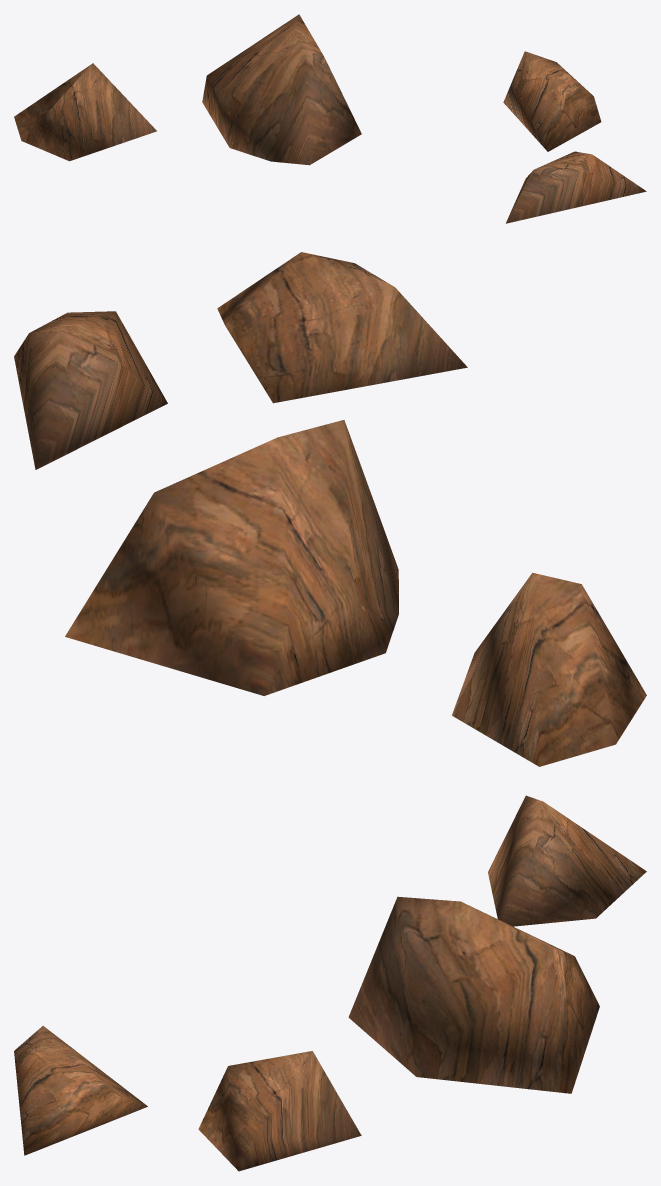
Rendered from rock_tatt_jundland_pebble_l2.fbx.
The picture shows the model from 3 angles, top to bottom: view 1: azimuth 30°, elevation 25°; view 2: azimuth 150°, elevation 25°; view 3: azimuth 270°, elevation 25°; orthographic projection. The views are drawn at different scales.
Parts seen in each view (by area): view 1: mesh_node; view 2: mesh_node; view 3: mesh_node.
Part boxes in pixels (left/top/right/bottom): mesh_node: left=14, top=14, right=646, bottom=223; mesh_node: left=14, top=252, right=646, bottom=766; mesh_node: left=14, top=795, right=646, bottom=1171.
Size of the model in its own units: 0.8359 by 0.1805 by 0.7294.
